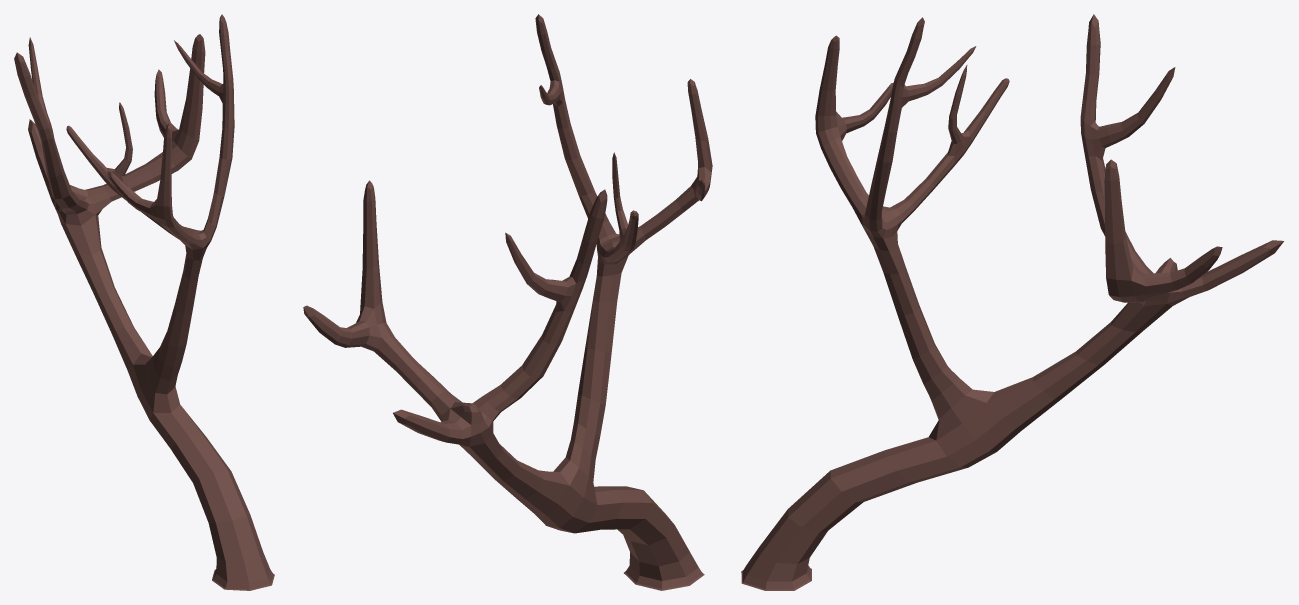
The model's file is willow_dead_2.glb.
3 renders of one model, left to right at view 1: azimuth 30°, elevation 25°; view 2: azimuth 150°, elevation 25°; view 3: azimuth 270°, elevation 25°, orthographic. The views are drawn at different scales.
Parts seen in each view (by area): view 1: Willow_Dead_2; view 2: Willow_Dead_2; view 3: Willow_Dead_2.
Boxes of the visible parts, <box> form: Willow_Dead_2: <box>14,14,274,590</box>; Willow_Dead_2: <box>303,14,712,590</box>; Willow_Dead_2: <box>741,14,1283,590</box>.
Size of the model in its own units: 2.82 by 6.81 by 5.75.
